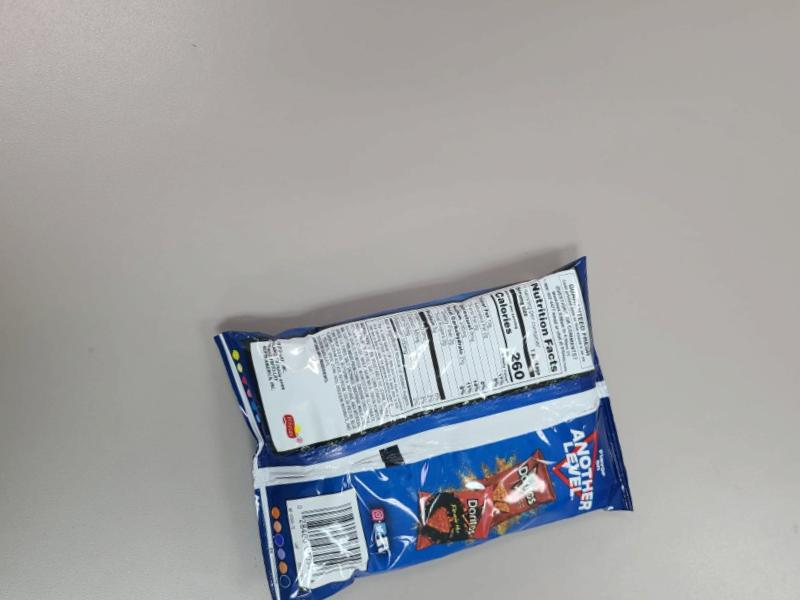doritos: (193, 256, 653, 600)
